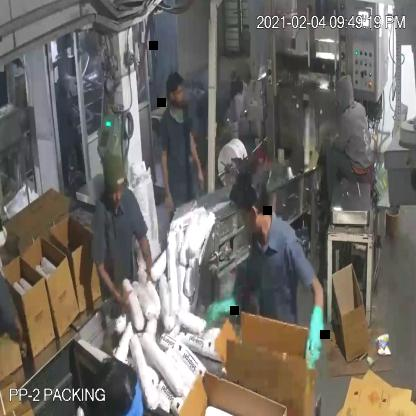glove: (298, 296, 331, 377), (200, 286, 244, 342)
no_glove: (84, 258, 138, 316), (184, 123, 211, 194), (155, 144, 179, 221), (134, 228, 156, 288)
